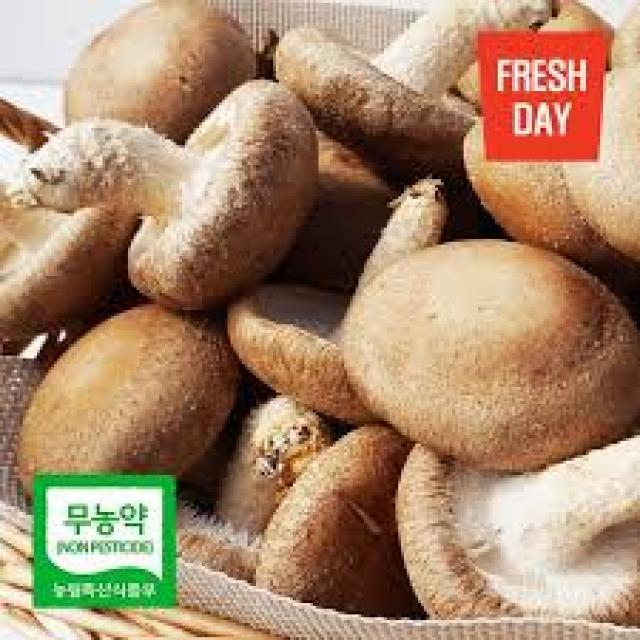Mushroom: (27, 80, 319, 311)
